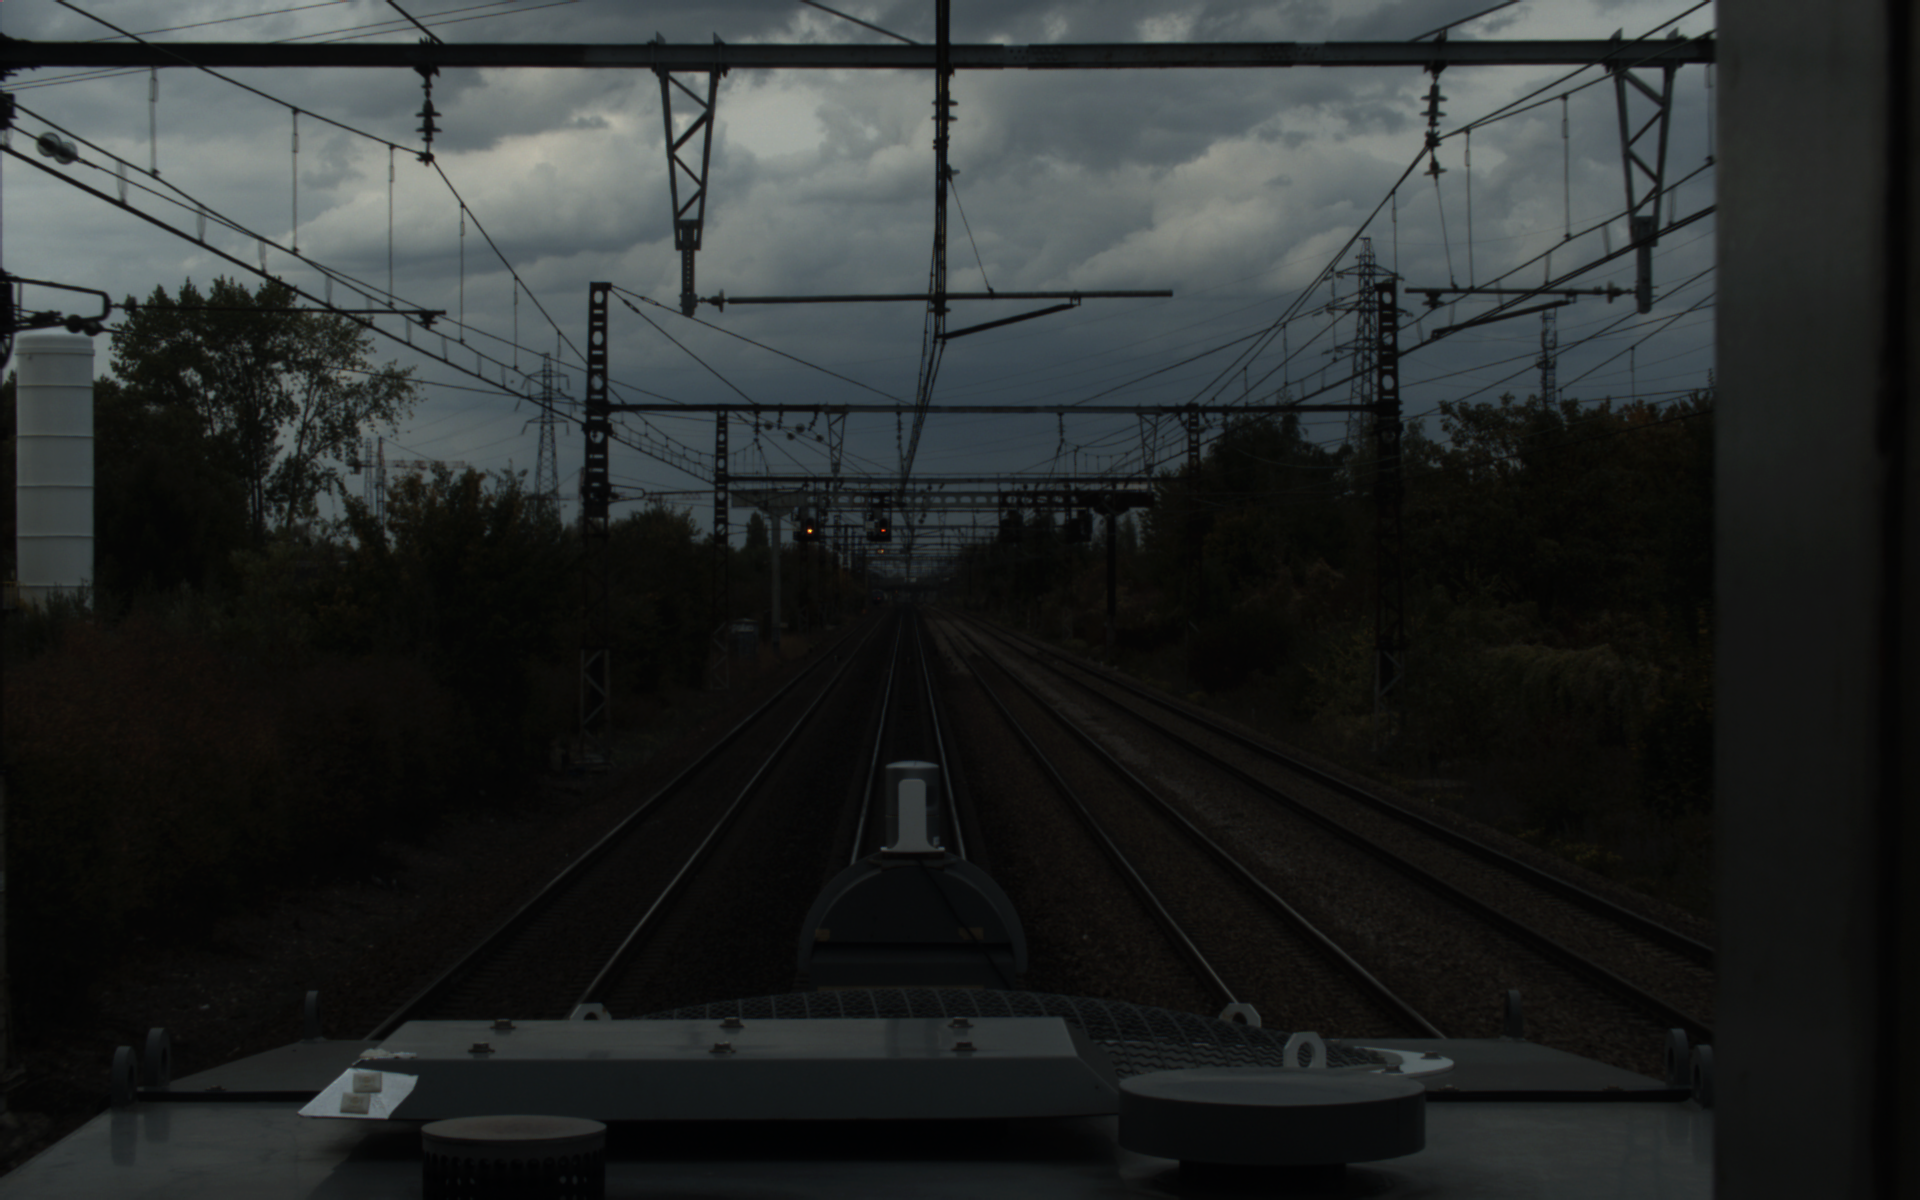Blinking: (802, 516, 816, 539), (876, 517, 890, 536)
